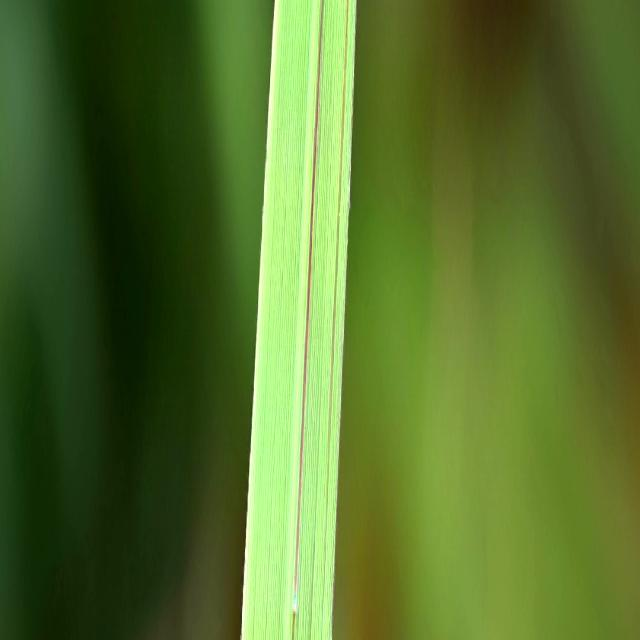BLS: (291, 0, 325, 640), (326, 0, 349, 487), (308, 398, 321, 640)
